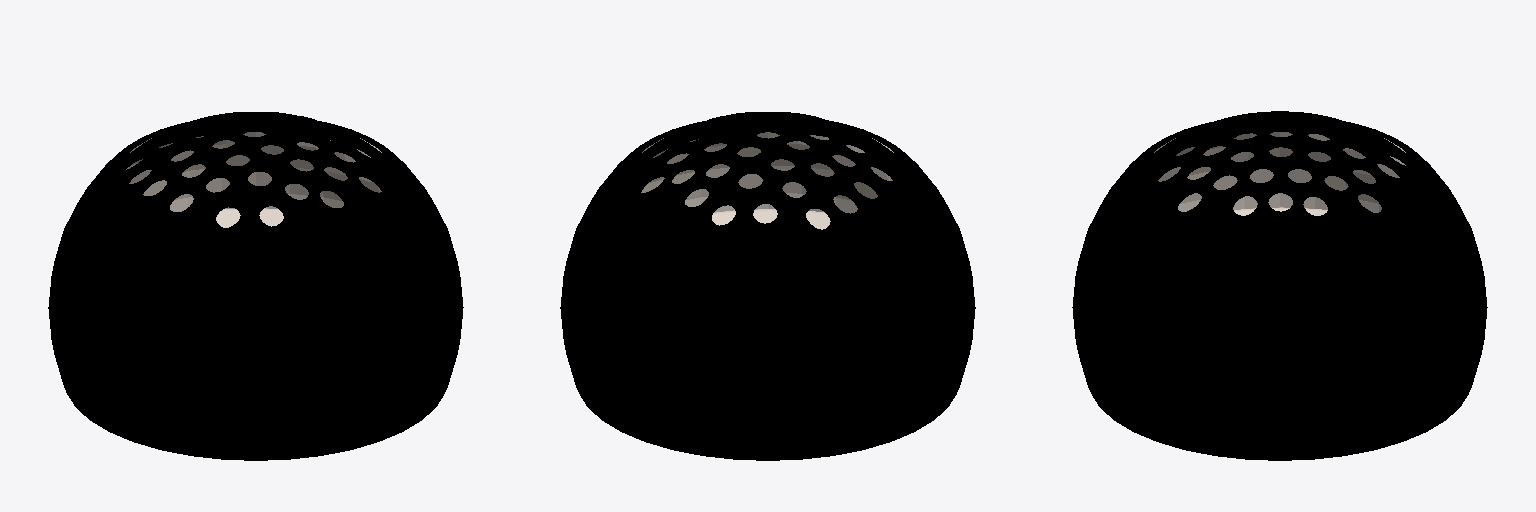
The model's file is tete_de_lampe.obj.
3 views of the same model, side by side, from view 1: azimuth 30°, elevation 25°; view 2: azimuth 150°, elevation 25°; view 3: azimuth 270°, elevation 25° (orthographic).
Parts seen in each view (by area): view 1: Object.2, Object.3, Object.1; view 2: Object.2, Object.3, Object.1; view 3: Object.2, Object.3.
Boxes of the visible parts, box(x1,y1,x2,y2) form: Object.2: box(48, 121, 463, 460); Object.3: box(116, 112, 395, 236); Object.1: box(216, 208, 283, 227); Object.2: box(560, 121, 975, 460); Object.3: box(628, 112, 907, 236); Object.1: box(712, 209, 830, 229); Object.2: box(1072, 122, 1487, 460); Object.3: box(1140, 111, 1419, 236).
Bounding box in the file's own units: 32 × 21.08 × 32.